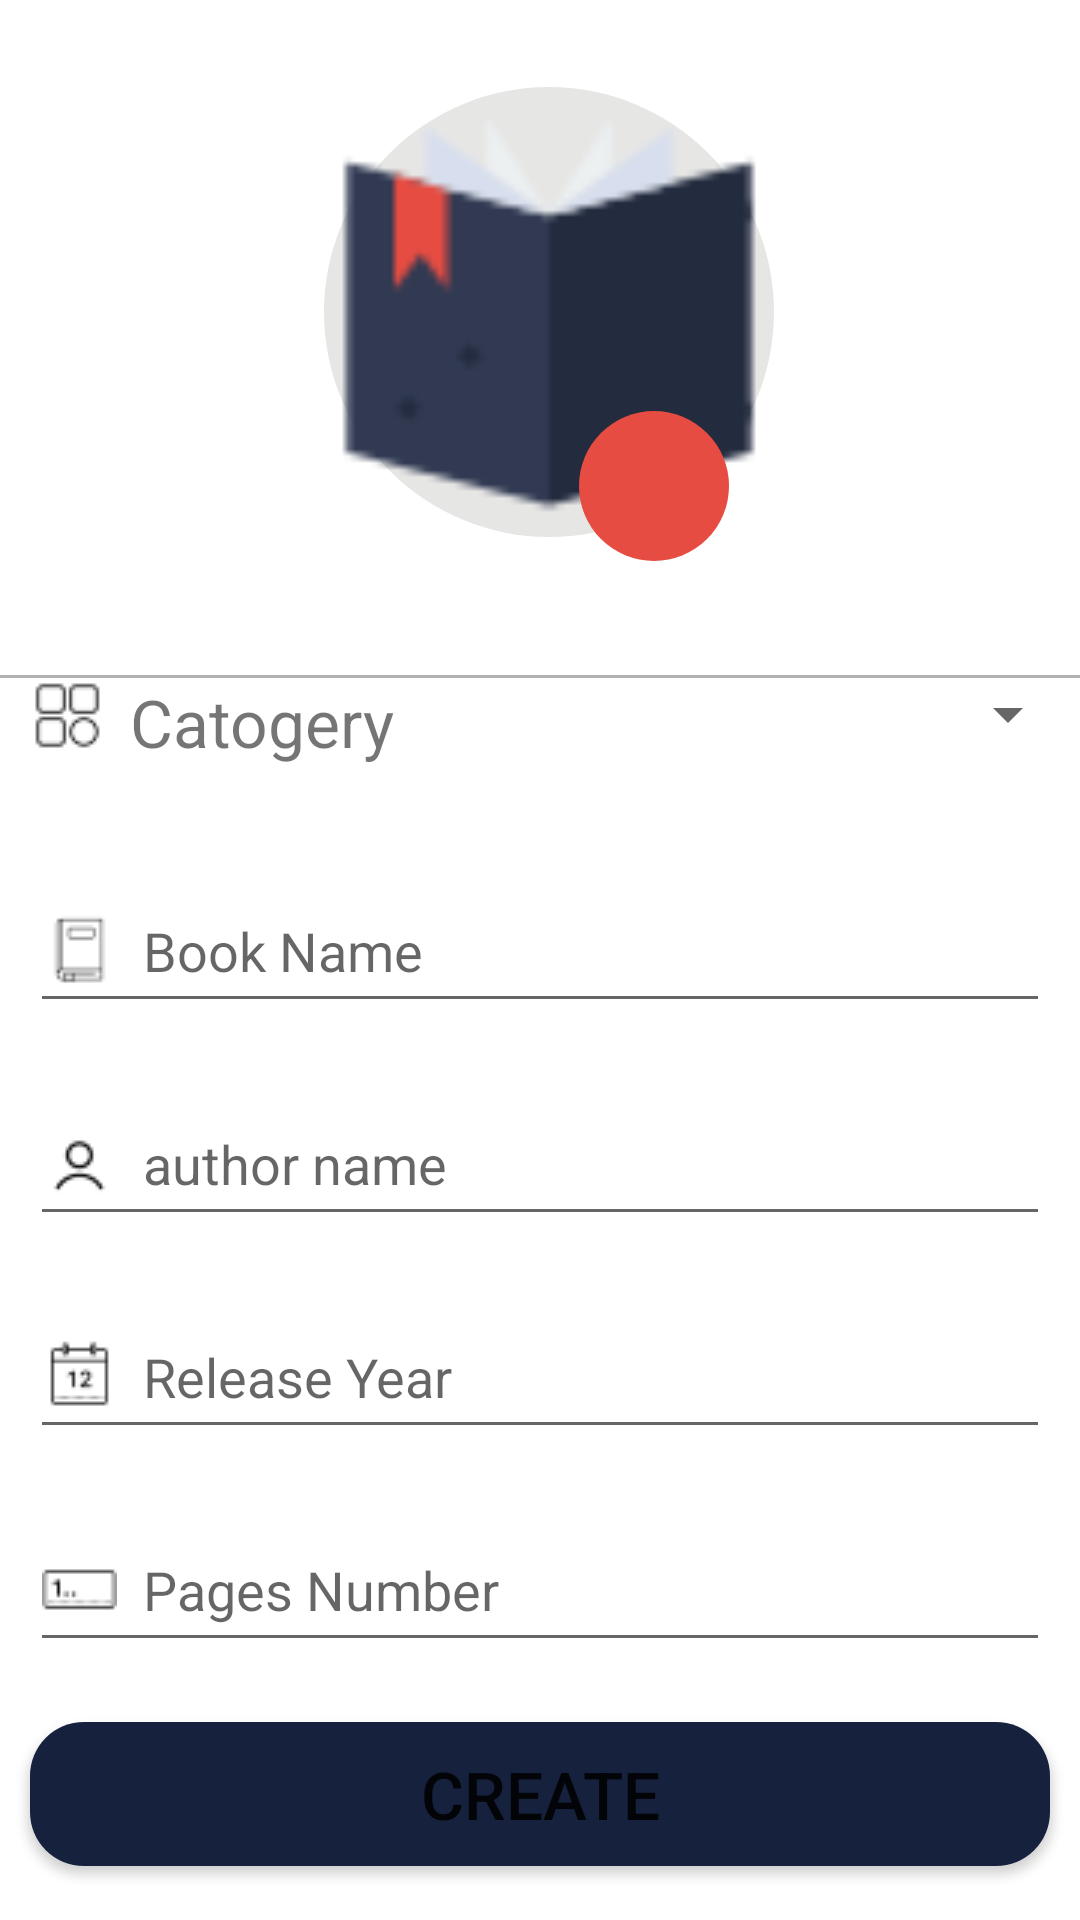

Named icons in this screenshot (1080 × 1920) and their bounding boxes, (x1, y1, x2, y2):
catogersmall: (35, 683, 100, 748)
